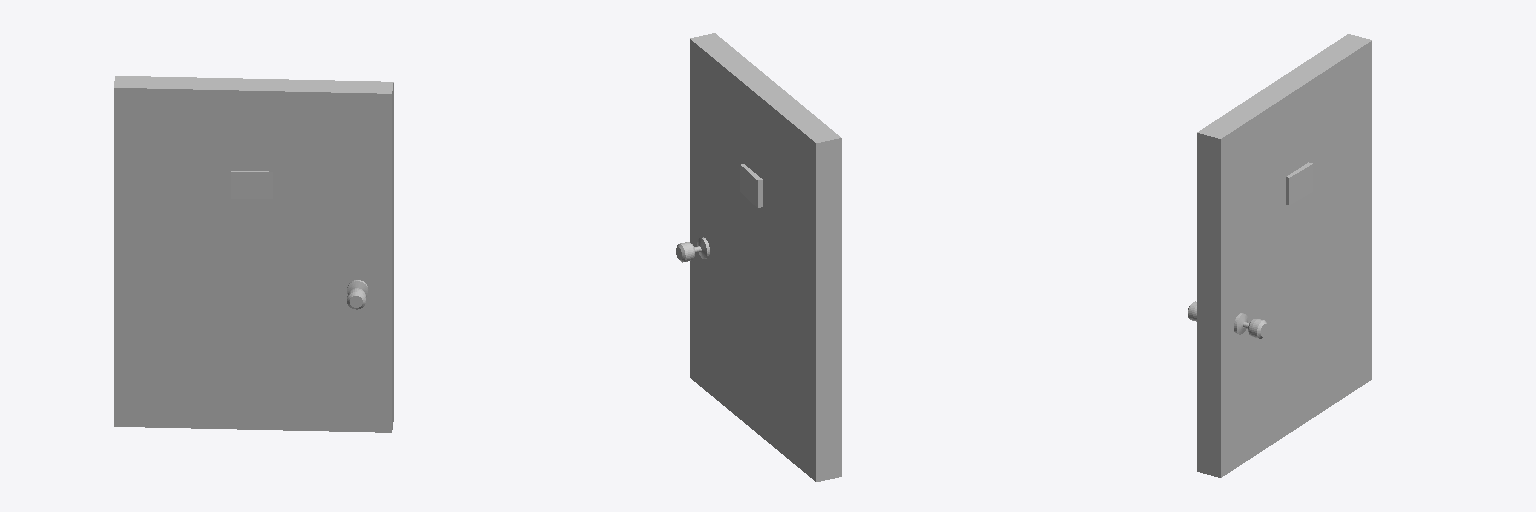
The model's file is Door_2_Open25.obj.
The picture shows the model from 3 angles: view 1: azimuth 30°, elevation 25°; view 2: azimuth 150°, elevation 25°; view 3: azimuth 270°, elevation 25°; orthographic projection.
Parts seen in each view (by area): view 1: Longer_Door; view 2: Longer_Door; view 3: Longer_Door.
Part boxes in pixels (x1,y1,x2,y2): Longer_Door: (114, 76, 393, 432); Longer_Door: (676, 33, 841, 481); Longer_Door: (1188, 34, 1371, 477).
Size of the model in its own units: 0.8216 by 1.23 by 0.6088.